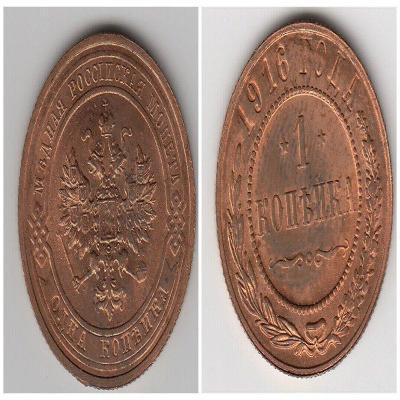numismatics: (18, 33, 195, 387), (216, 22, 393, 375)
